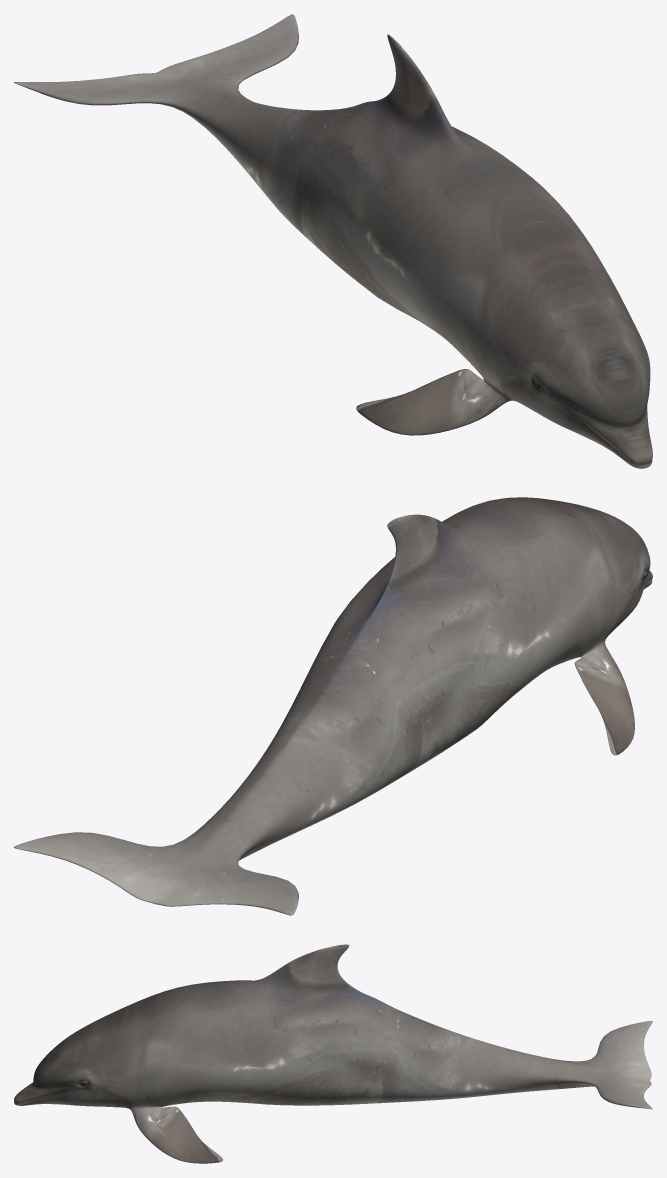
File: Dolphin.obj
3 renders of one model, top to bottom at view 1: azimuth 30°, elevation 25°; view 2: azimuth 150°, elevation 25°; view 3: azimuth 270°, elevation 25°, orthographic. The views are drawn at different scales.
Visible parts, largest first — view 1: Dolphin.001; view 2: Dolphin.001; view 3: Dolphin.001.
Part boxes in pixels (left/top/right/bottom): Dolphin.001: left=14, top=14, right=652, bottom=468; Dolphin.001: left=14, top=497, right=652, bottom=915; Dolphin.001: left=14, top=944, right=652, bottom=1163.
Bounding box in the file's own units: 2.19 × 2.09 × 6.7.
1 material, 1 textured.
